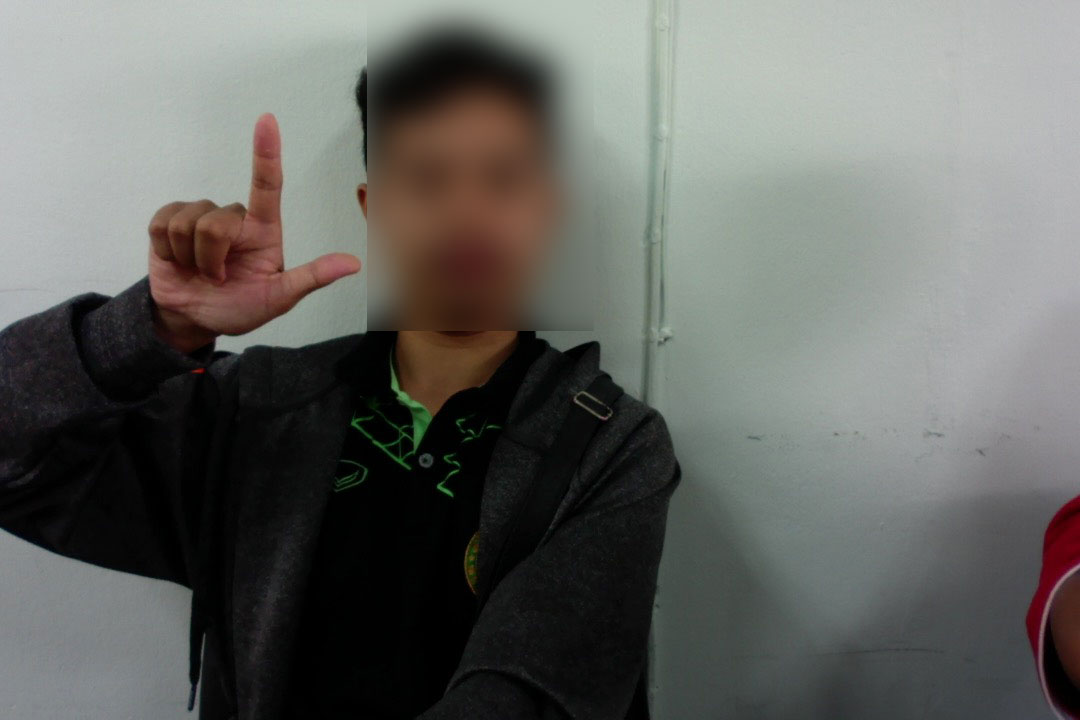lor: (105, 106, 365, 354)
